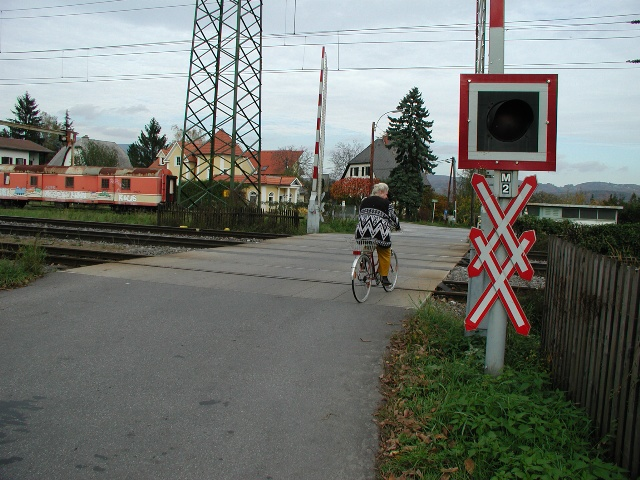person: (355, 179, 393, 297)
